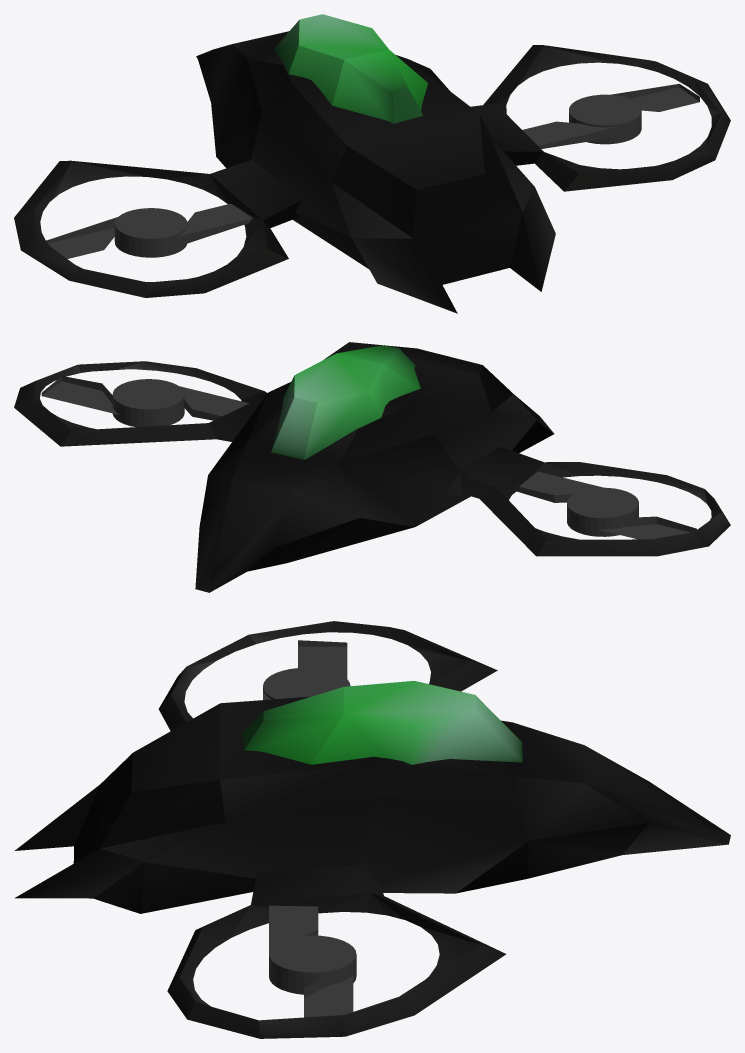
File: mercenary3.glb
The picture shows the model from 3 angles, top to bottom: view 1: azimuth 30°, elevation 25°; view 2: azimuth 150°, elevation 25°; view 3: azimuth 270°, elevation 25°; orthographic projection. The views are drawn at different scales.
Visible parts, largest first — view 1: Chassis, Right Wing.001, Right Wing.000, Fuselage, Cylinder, Cylinder.001; view 2: Chassis, Right Wing.001, Fuselage, Right Wing.000, Cylinder.001, Cylinder; view 3: Chassis, Right Wing.000, Fuselage, Cylinder.001, Right Wing.001, Cylinder.
Boxes of the visible parts, box(x1,y1,x2,y2) form: Chassis: box(196, 31, 555, 313); Right Wing.001: box(14, 159, 301, 297); Right Wing.000: box(471, 45, 730, 191); Fuselage: box(274, 14, 427, 123); Cylinder: box(46, 203, 252, 258); Cylinder.001: box(522, 83, 699, 148); Chassis: box(195, 342, 554, 592); Right Wing.001: box(445, 446, 730, 556); Fuselage: box(271, 345, 420, 459); Right Wing.000: box(14, 361, 267, 446); Cylinder.001: box(41, 376, 249, 426); Cylinder: box(517, 471, 696, 539); Chassis: box(14, 696, 730, 913); Right Wing.000: box(167, 863, 506, 1038); Fuselage: box(242, 680, 522, 764); Cylinder.001: box(269, 905, 356, 1017); Right Wing.001: box(158, 621, 497, 730); Cylinder: box(263, 640, 350, 699).
Bounding box in the file's own units: 7.04 × 1.49 × 5.26.
